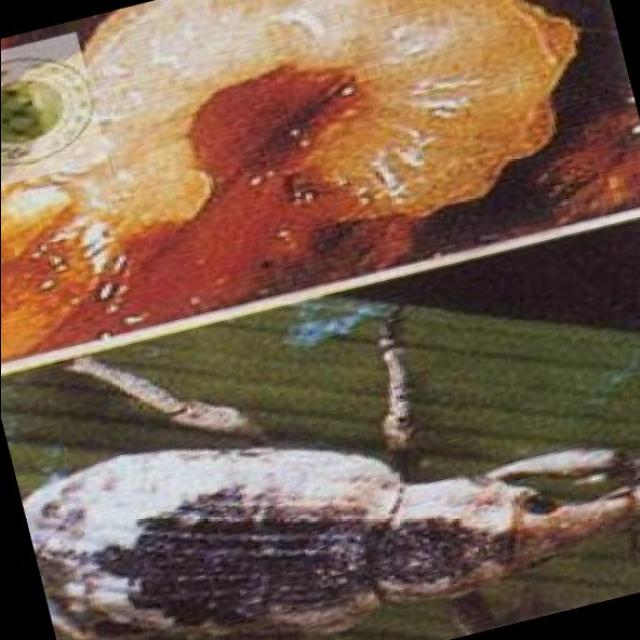ricebug: (25, 450, 640, 640)
